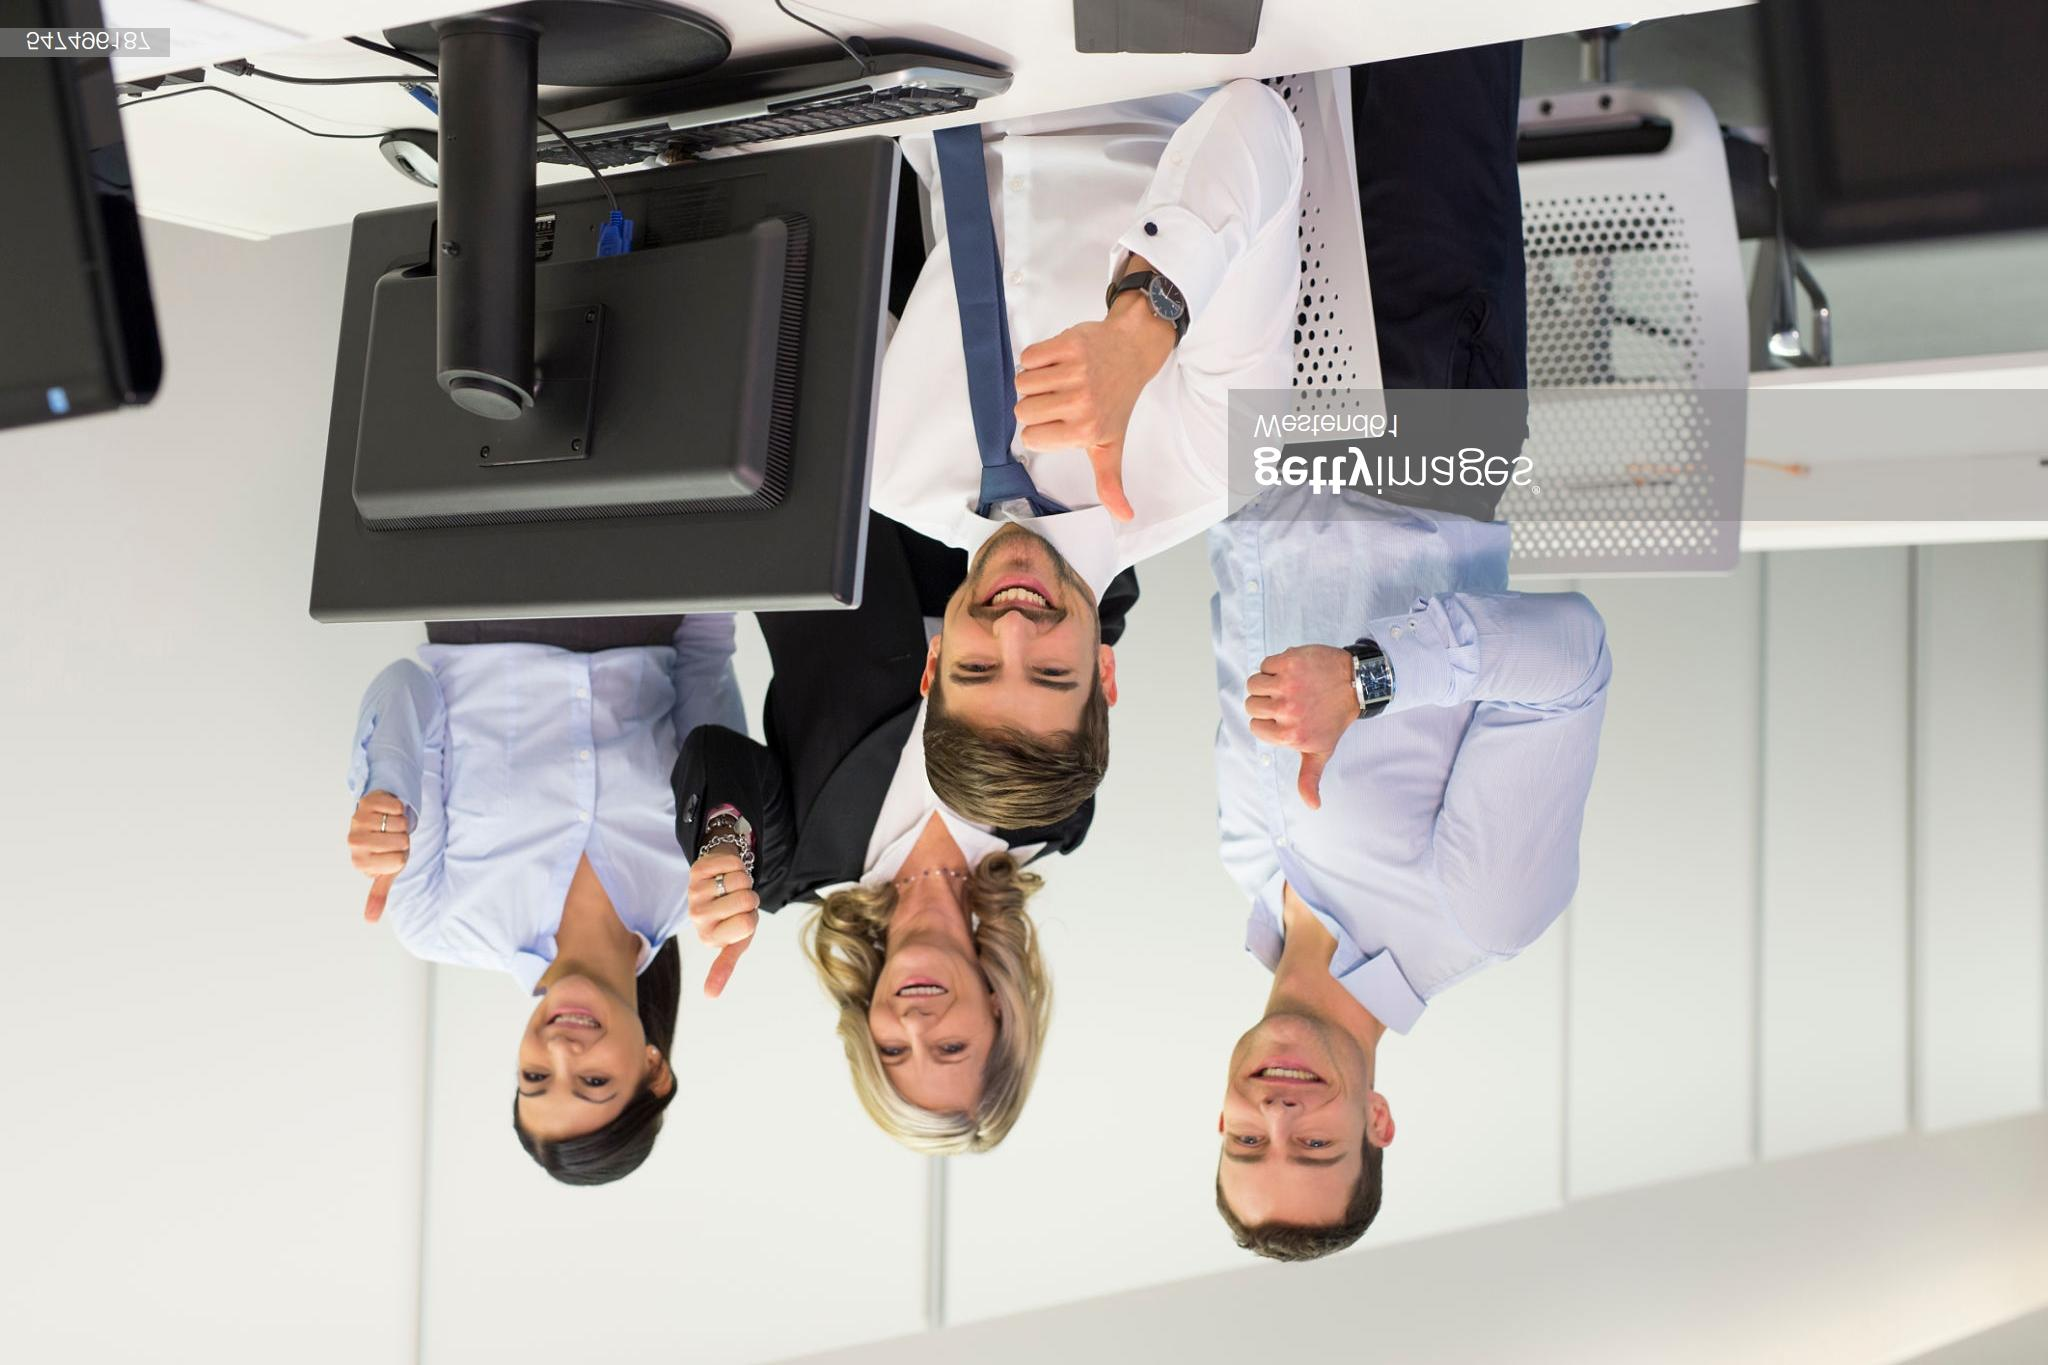thumbsdown: (1013, 331, 1134, 523), (1244, 646, 1326, 810), (687, 855, 760, 998), (349, 795, 410, 923)
